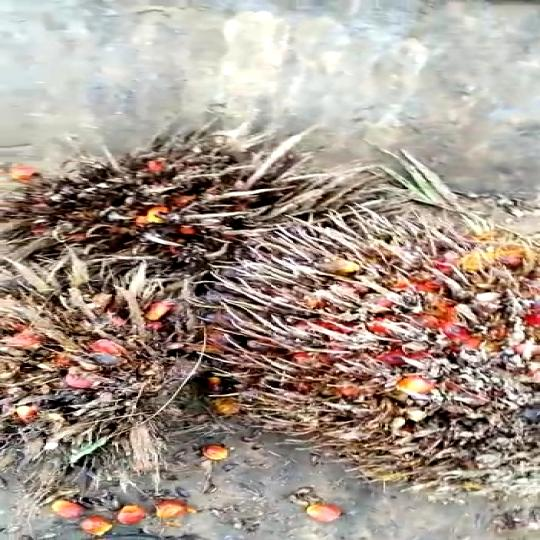terlalu masak: (201, 214, 540, 486), (0, 136, 314, 254)
